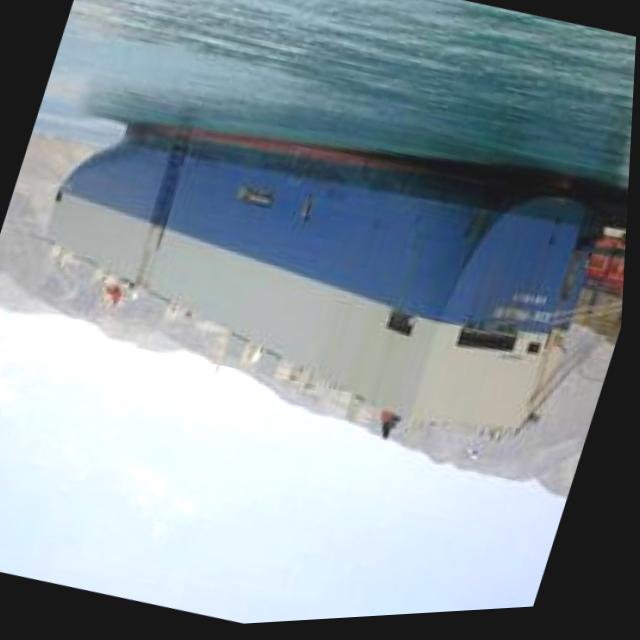ship2: (48, 121, 615, 463)
